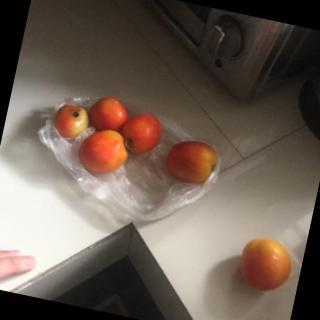Tomat: (157, 125, 227, 197), (232, 228, 299, 301), (68, 121, 136, 189), (110, 100, 170, 163), (76, 82, 136, 142), (45, 94, 92, 143)
